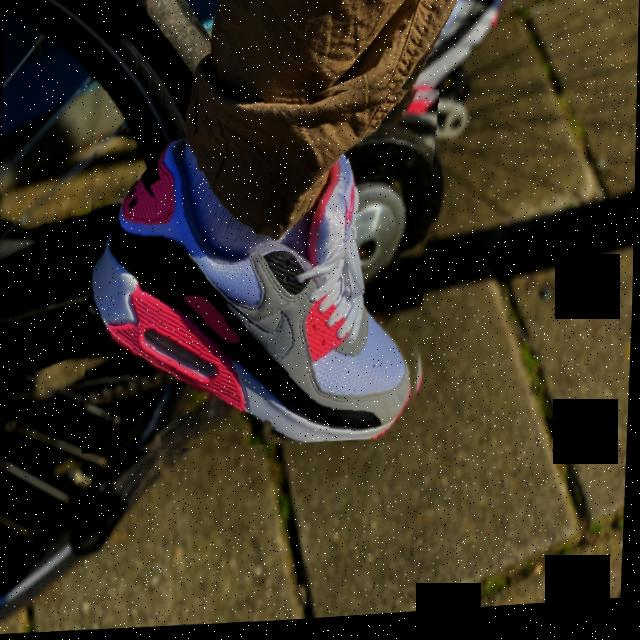shoe: (83, 74, 440, 461)
